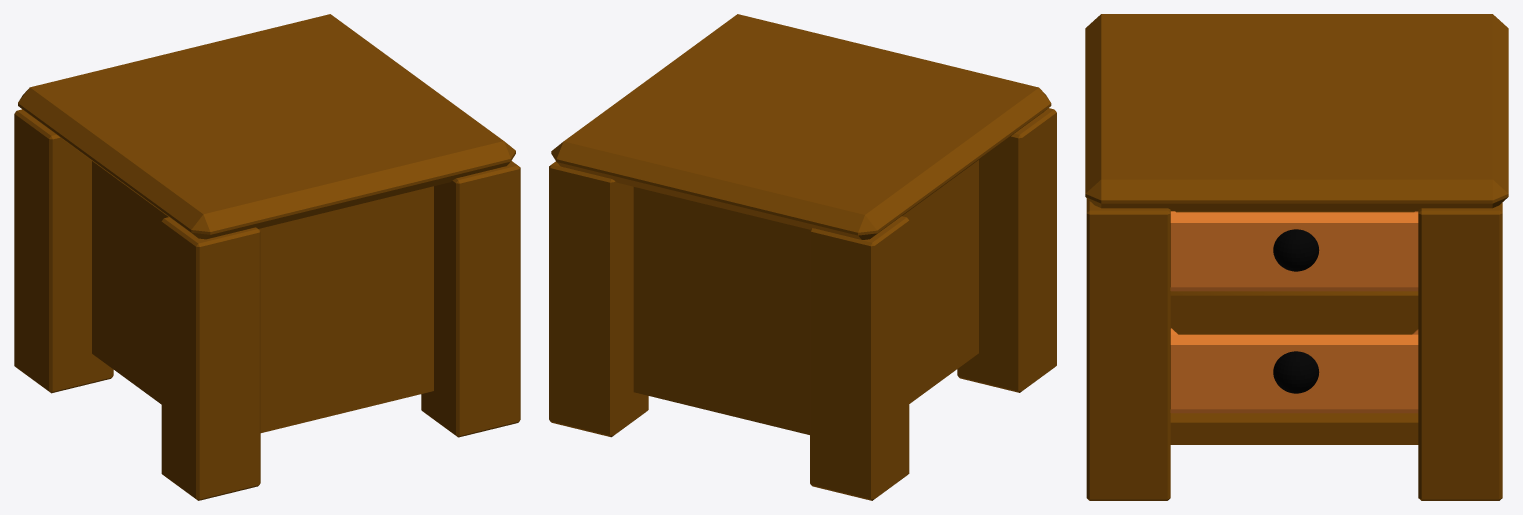
File: Shelf2.fbx
3 views of the same model, side by side, from view 1: azimuth 30°, elevation 25°; view 2: azimuth 150°, elevation 25°; view 3: azimuth 270°, elevation 25° (orthographic). The views are drawn at different scales.
Parts seen in each view (by area): view 1: ShelfDrawerSphere.002; view 2: ShelfDrawerSphere.002; view 3: ShelfDrawerSphere.002.
Part boxes in pixels (box(x1,y1,x2,y2)): ShelfDrawerSphere.002: box(14, 14, 520, 500); ShelfDrawerSphere.002: box(549, 14, 1056, 500); ShelfDrawerSphere.002: box(1085, 14, 1508, 500).
Size of the model in its own units: 55.74 by 45.94 by 55.66.
